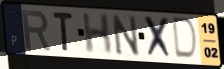D: (172, 16, 200, 62)
H: (81, 13, 114, 56)
N: (110, 13, 142, 57)
R: (21, 8, 53, 52)
T: (51, 11, 75, 53)
X: (143, 15, 174, 61)
